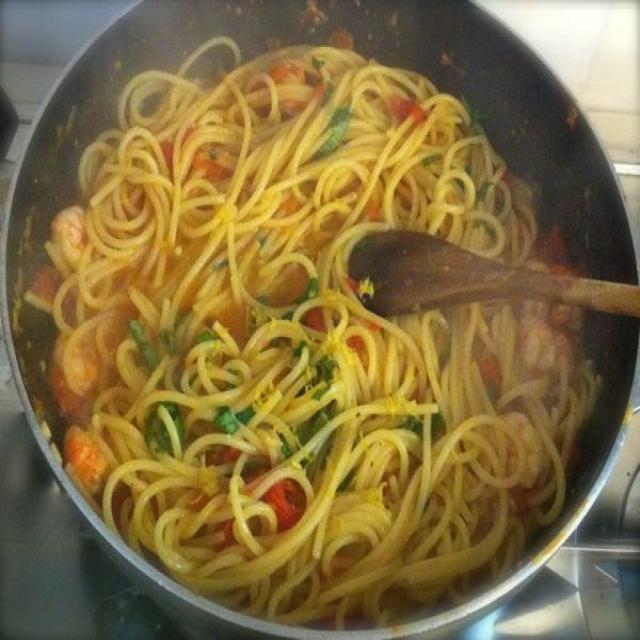Oil pasta: (25, 37, 621, 590)
